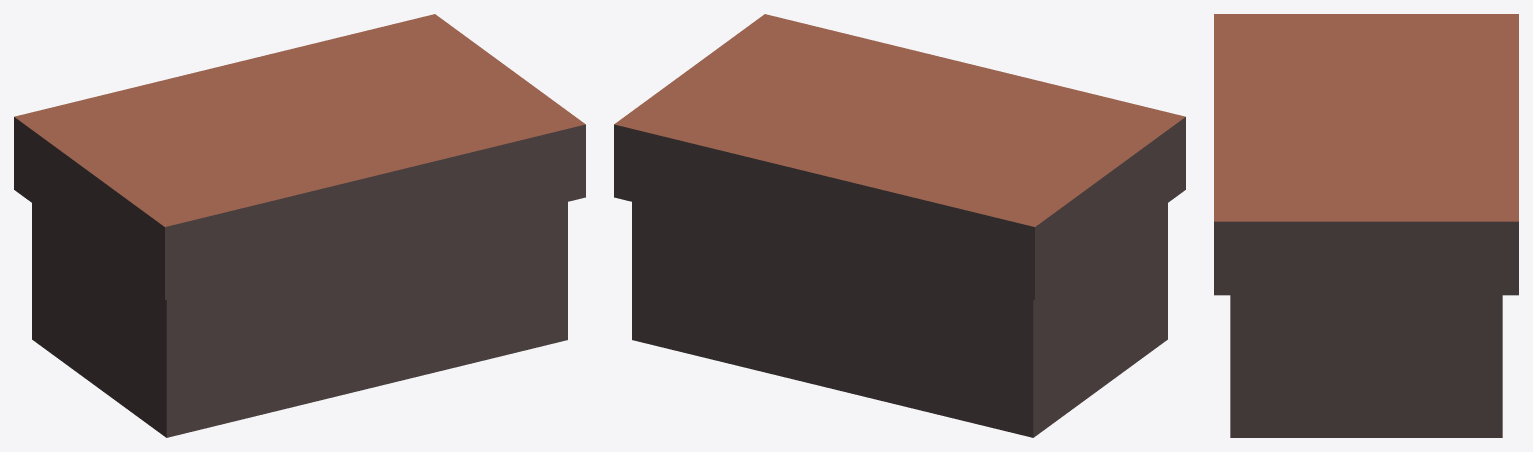
File: TB_Prop_Box_A.FBX
3 views of the same model, side by side, from view 1: azimuth 30°, elevation 25°; view 2: azimuth 150°, elevation 25°; view 3: azimuth 270°, elevation 25° (orthographic).
Parts seen in each view (by area): view 1: TB_Prop_Box_A; view 2: TB_Prop_Box_A; view 3: TB_Prop_Box_A.
Boxes of the visible parts, bbox=[...] form: TB_Prop_Box_A: bbox=[14, 14, 585, 437]; TB_Prop_Box_A: bbox=[614, 14, 1185, 437]; TB_Prop_Box_A: bbox=[1214, 14, 1518, 437].
Size of the model in its own units: 1.3 by 0.6453 by 0.8053.
